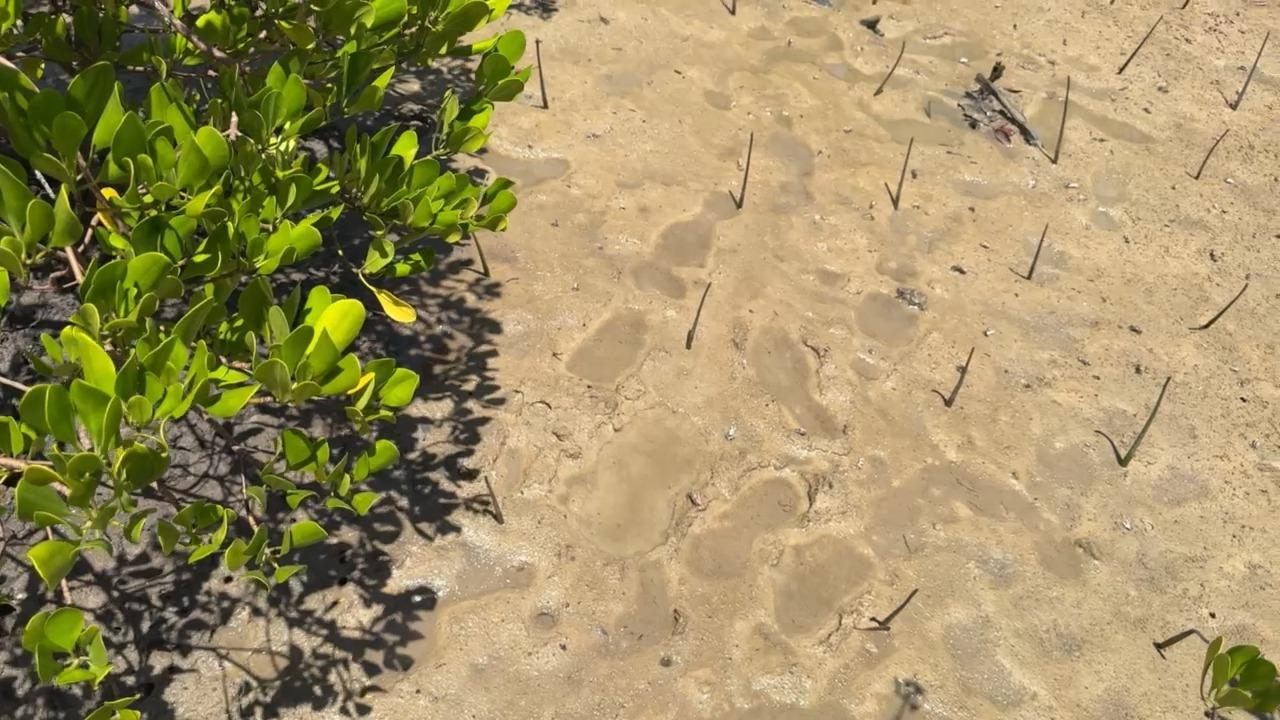Tree: (1120, 378, 1172, 468), (1232, 32, 1270, 110), (1119, 16, 1163, 74), (1201, 284, 1245, 329), (1195, 129, 1230, 179), (686, 283, 712, 349), (947, 347, 975, 408), (875, 40, 905, 96), (1053, 76, 1071, 164), (880, 589, 918, 626), (894, 138, 913, 210), (737, 134, 753, 209), (1027, 223, 1048, 280), (484, 474, 505, 525), (1157, 629, 1209, 649), (469, 233, 491, 277), (536, 42, 550, 109), (731, 0, 738, 16)
